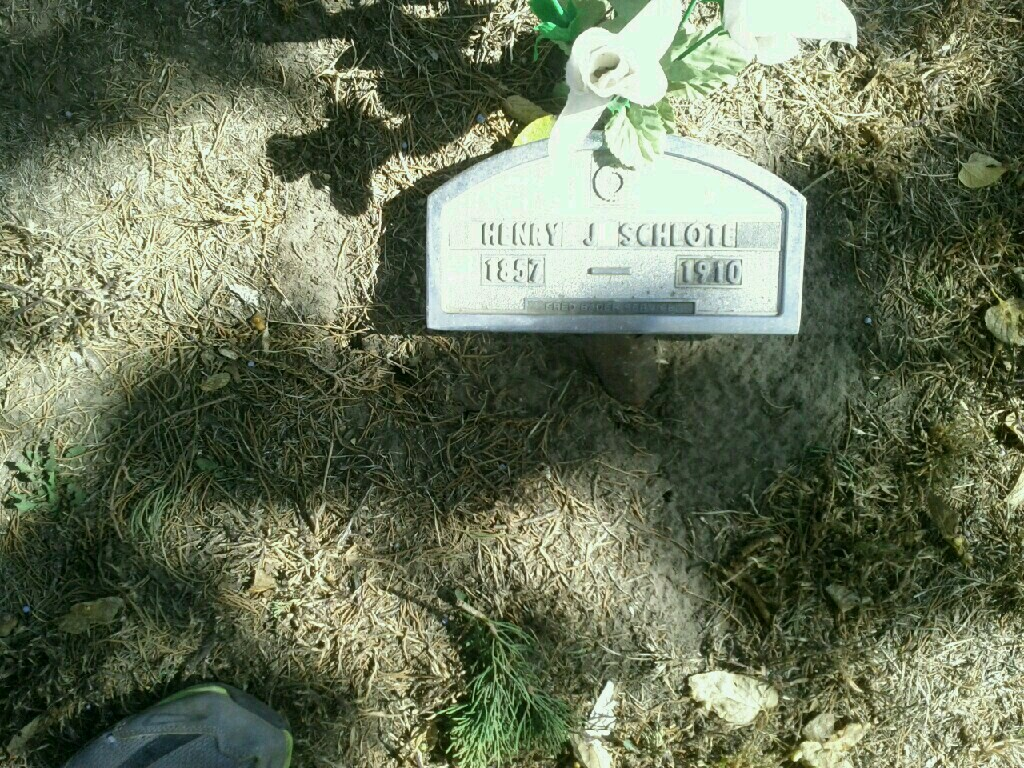flat: (417, 119, 810, 346)
